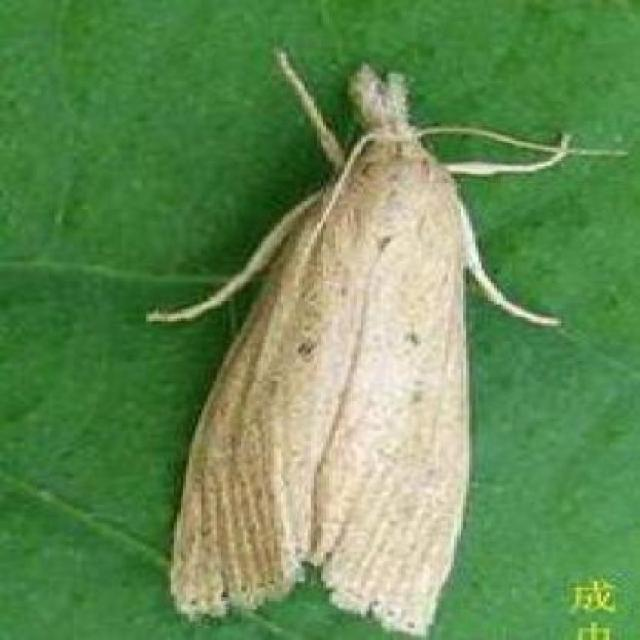stem-borer: (143, 43, 559, 640)
